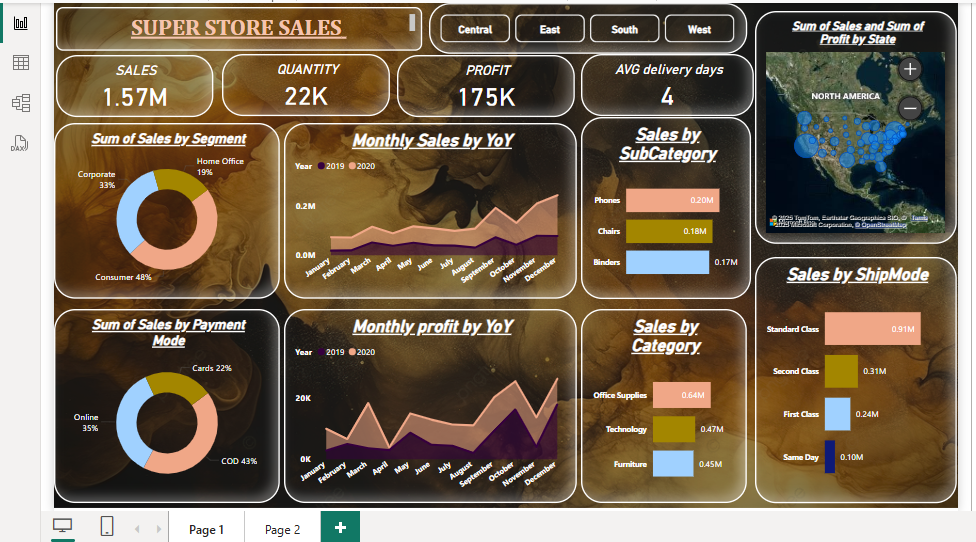

The dashboard page shown, as its layout file describes it:
{"tool":"powerbi","page":{"name":"Page 1","canvas":[1280,720],"ordinal":0},"visuals":[{"type":"clusteredBarChart","title":" Sales by Category","fields":{"Category":["Sheet1.Category"],"Y":["Sum(Sheet1.Sales)"]},"box":[746.9,433.7,235.3,275],"z":0},{"type":"clusteredBarChart","title":" Sales by SubCategory","fields":{"Y":["Sum(Sheet1.Sales)"],"Category":["Sheet1.Sub-Category"]},"box":[746.9,161.6,240.9,258],"z":1000},{"type":"clusteredBarChart","title":" Sales by ShipMode","fields":{"Y":["Sum(Sheet1.Sales)"],"Category":["Sheet1.Ship Mode"]},"box":[993.5,360,286.3,348.7],"z":2000},{"type":"stackedAreaChart","title":"Monthly Sales by YoY","fields":{"Category":["Sheet1.Order Date.Variation.Date Hierarchy.Month","Sheet1.Order Date.Variation.Date Hierarchy.Day"],"Y":["Sum(Sheet1.Sales)"],"Series":["Sheet1.Order Date.Variation.Date Hierarchy.Year"]},"box":[326,170.1,415.3,249.4],"z":3000},{"type":"stackedAreaChart","title":"Monthly profit by YoY","fields":{"Category":["Sheet1.Order Date.Variation.Date Hierarchy.Month","Sheet1.Order Date.Variation.Date Hierarchy.Day"],"Series":["Sheet1.Order Date.Variation.Date Hierarchy.Year"],"Y":["Sum(Sheet1.Profit)"]},"box":[326,433.7,415.3,275],"z":4000},{"type":"map","fields":{"Category":["Sheet1.State"],"Size":["Sum(Sheet1.Sales)"]},"box":[993.5,11.3,286.3,330.2],"z":5000},{"type":"donutChart","fields":{"Category":["Sheet1.Segment"],"Y":["Sum(Sheet1.Sales)"]},"box":[0,170.1,320.3,249.4],"z":6000},{"type":"donutChart","fields":{"Category":["Sheet1.Payment Mode"],"Y":["Sum(Sheet1.Sales)"]},"box":[0,433.7,320.3,275],"z":7000},{"type":"advancedSlicerVisual","fields":{"Values":["Sheet1.Region"]},"box":[531.5,0,450.7,72.3],"z":8000},{"type":"textbox","box":[2.8,5.7,518.7,62.4],"z":9000},{"type":"card","title":"SALES","fields":{"Values":["Sum(Sheet1.Sales)"]},"box":[2.8,73.7,222.5,87.9],"z":10000},{"type":"card","title":"QUANTITY","fields":{"Values":["Sum(Sheet1.Quantity)"]},"box":[238.1,72.3,238.1,87.9],"z":11000},{"type":"card","title":"PROFIT","fields":{"Values":["Sum(Sheet1.Profit)"]},"box":[486.1,73.7,252.3,87.9],"z":12000},{"type":"card","title":"AVG delivery days","fields":{"Values":["Avg(Sheet1.AVGdelivery)"]},"box":[746.9,72.3,245.2,87.9],"z":13000}]}

Visuals, with their boxes in screenshot pixels (x1, y1, x2, y2):
" Sales by Category" clusteredBarChart: [left=577, top=308, right=746, bottom=504]
" Sales by SubCategory" clusteredBarChart: [left=577, top=113, right=750, bottom=298]
" Sales by ShipMode" clusteredBarChart: [left=754, top=255, right=959, bottom=504]
"Monthly Sales by YoY" stackedAreaChart: [left=276, top=119, right=573, bottom=297]
"Monthly profit by YoY" stackedAreaChart: [left=276, top=308, right=573, bottom=504]
map - Sheet1.State x Sum(Sheet1.Sales): [left=754, top=6, right=959, bottom=242]
donutChart - Sheet1.Segment x Sum(Sheet1.Sales): [left=43, top=119, right=272, bottom=297]
donutChart - Sheet1.Payment Mode x Sum(Sheet1.Sales): [left=43, top=308, right=272, bottom=504]
advancedSlicerVisual - Sheet1.Region: [left=423, top=0, right=746, bottom=49]
textbox: [left=45, top=2, right=416, bottom=46]
"SALES" card: [left=45, top=50, right=204, bottom=113]
"QUANTITY" card: [left=214, top=49, right=384, bottom=112]
"PROFIT" card: [left=391, top=50, right=571, bottom=113]
"AVG delivery days" card: [left=577, top=49, right=753, bottom=112]
